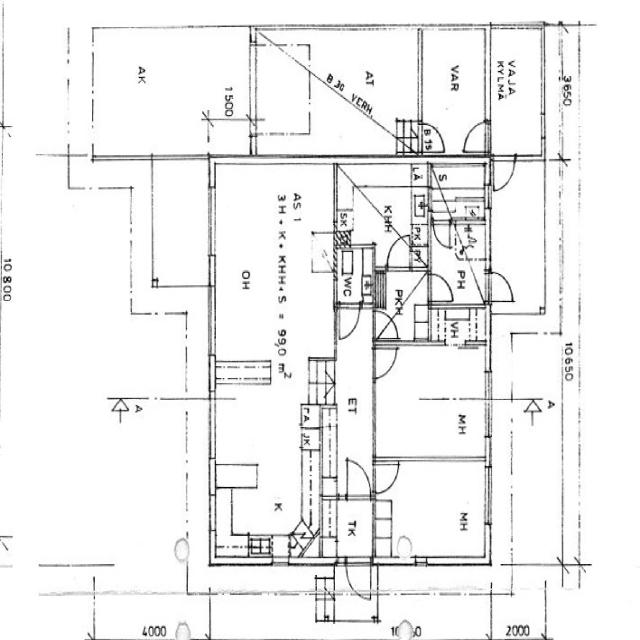door: (343, 455, 373, 502), (343, 556, 374, 601), (372, 456, 402, 496), (461, 118, 491, 157), (486, 267, 516, 305), (490, 152, 517, 192), (337, 302, 362, 342), (372, 344, 398, 380), (428, 271, 454, 305), (386, 238, 412, 272), (372, 310, 400, 338), (431, 218, 454, 250)
window: (391, 451, 486, 469), (202, 180, 220, 262), (244, 40, 258, 116), (481, 465, 496, 530), (484, 202, 496, 265), (86, 45, 99, 103), (204, 253, 218, 288), (480, 434, 495, 466), (269, 554, 292, 570)
zone: (212, 155, 336, 560), (249, 30, 421, 152), (86, 28, 249, 156), (374, 343, 489, 459), (373, 460, 490, 562), (418, 28, 490, 152), (336, 164, 428, 256), (489, 26, 545, 156), (431, 219, 490, 307), (374, 268, 430, 340), (491, 592, 547, 640), (426, 304, 489, 346), (335, 247, 377, 306), (334, 498, 376, 555)
